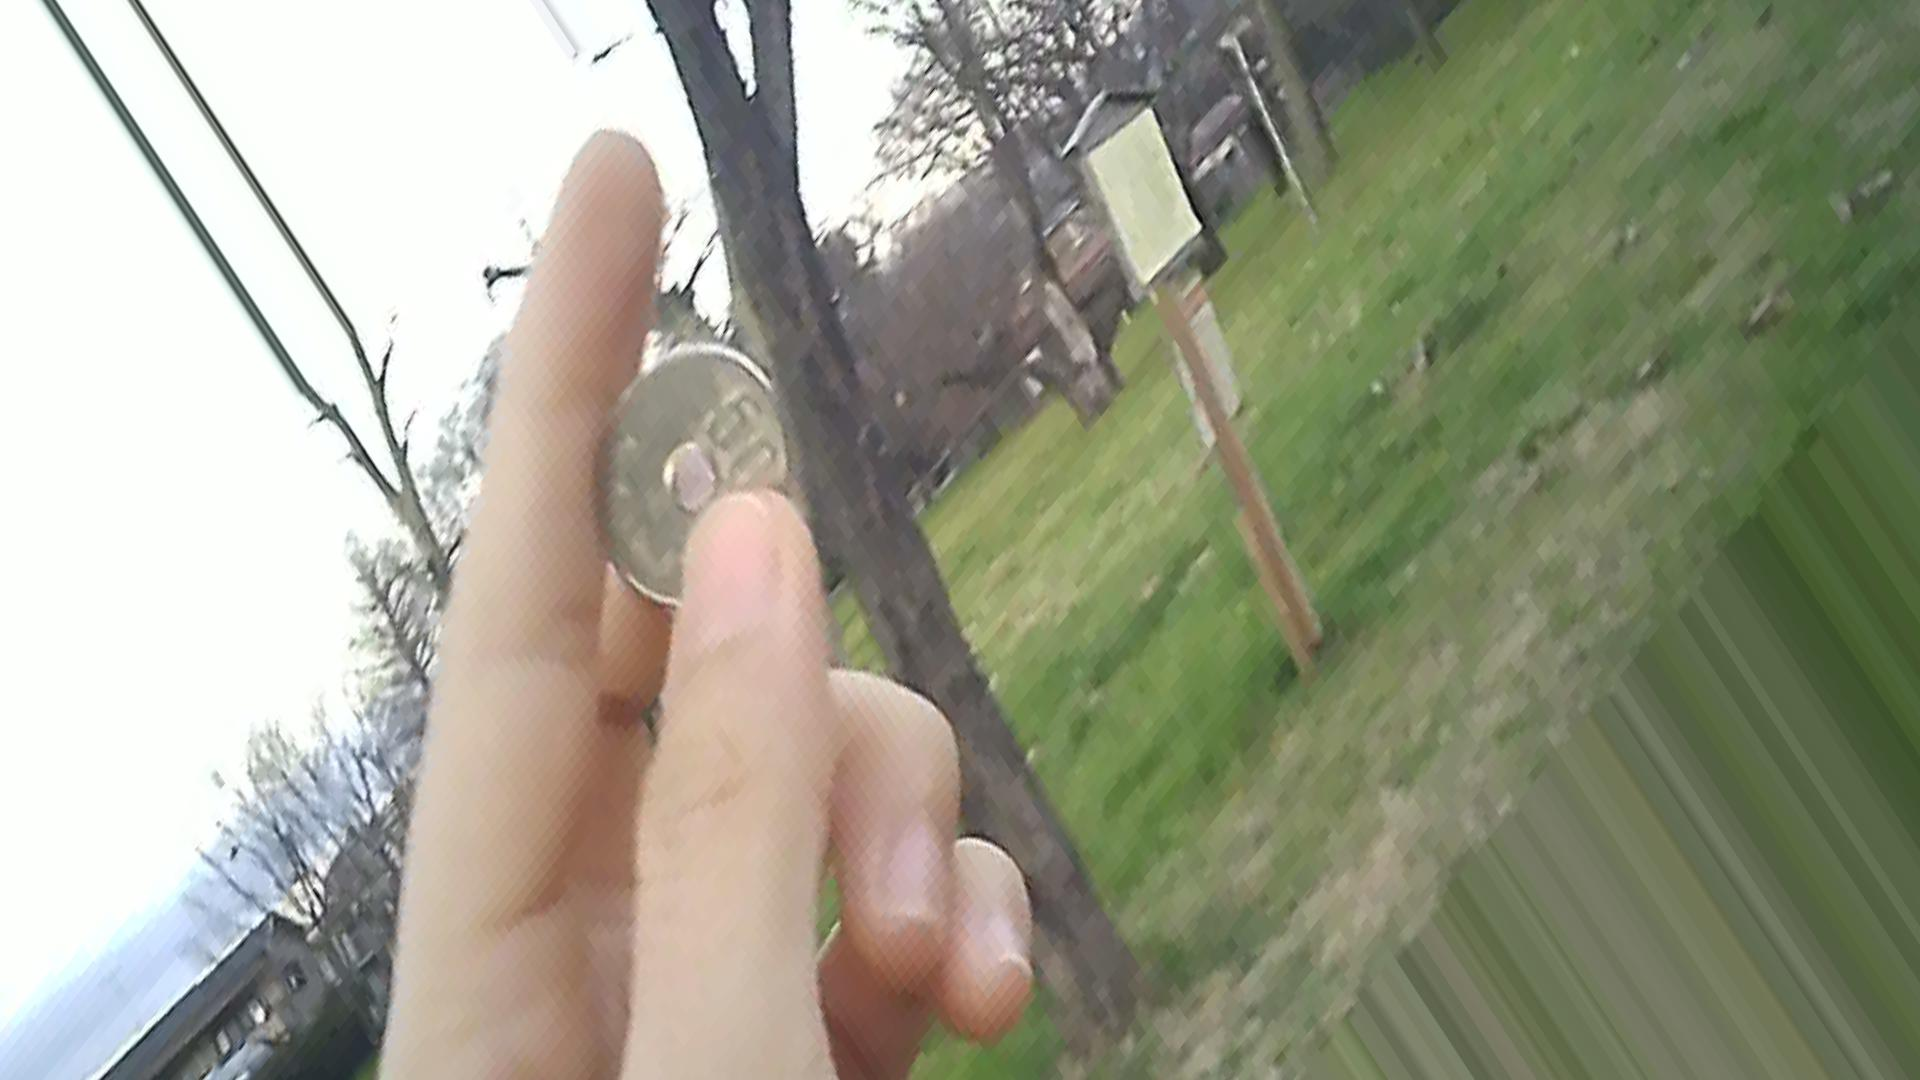50 Yen: (593, 330, 803, 601)
